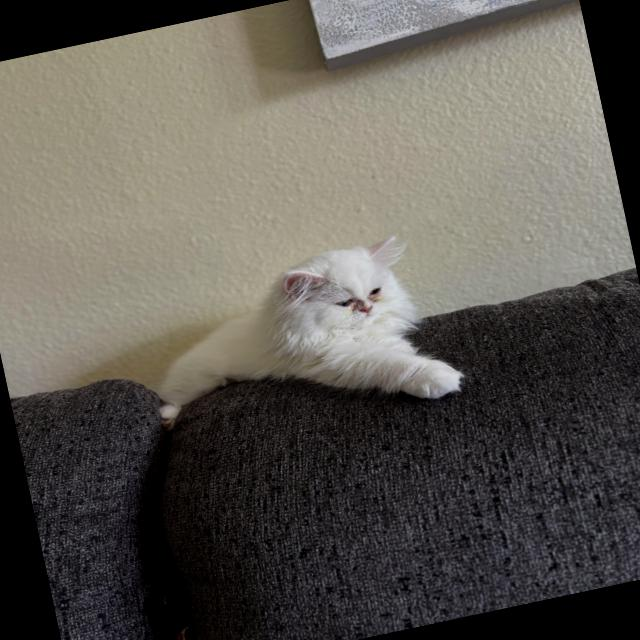persian_cat: (256, 224, 434, 360)
